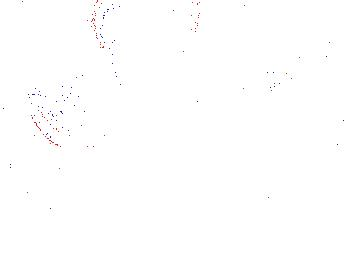moon jellyfish: (153, 1, 267, 109), (92, 1, 199, 70), (244, 1, 346, 54), (27, 93, 117, 151)
